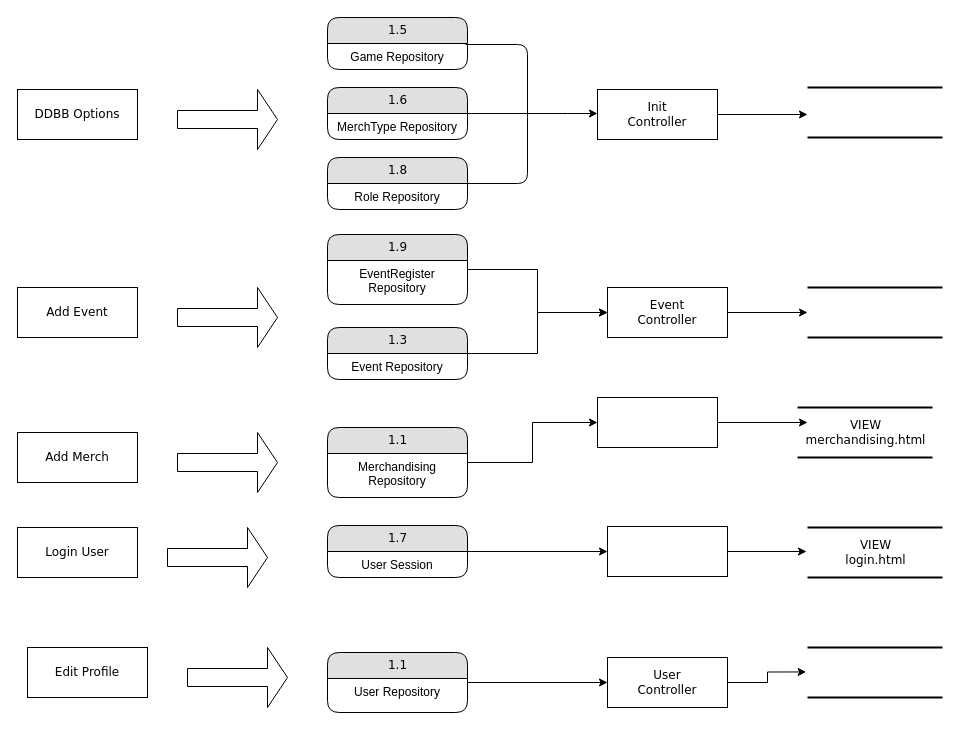
This 961x733 diagram has some shape labels left out. The shapes that lost their labels are listed below. From the top down, each one's centre as x and y in pixels, then its label:
(874,112): Database
(874,312): VIEW event_form.html
(657,422): Merchandising Controller
(667,551): Session Controller
(874,672): VIEW userprofile.html
